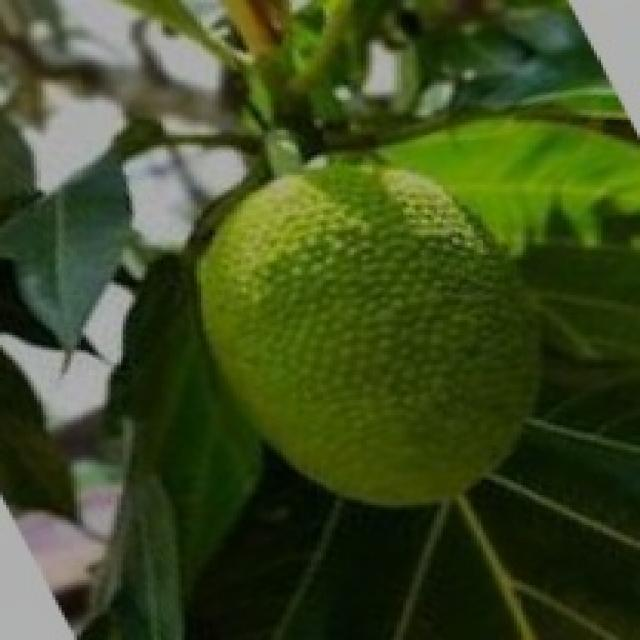Fruit: (182, 128, 609, 542)
